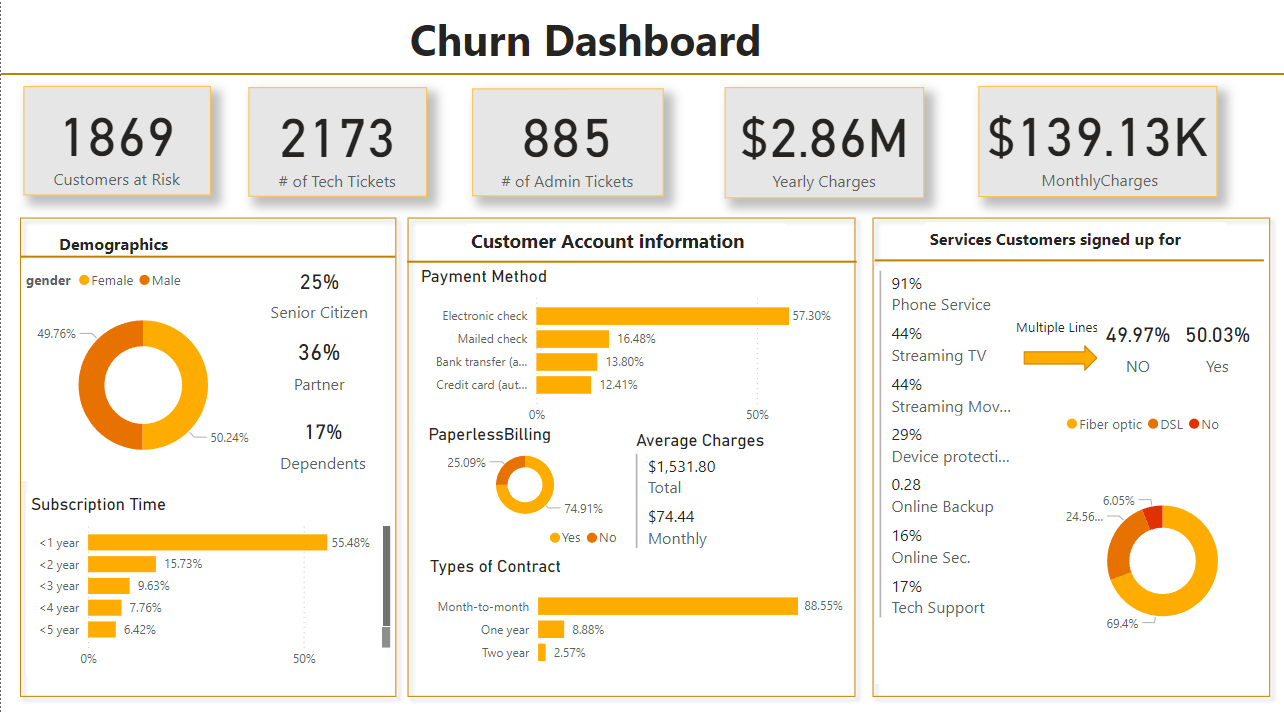

The page's visual inventory and layout, read from the dashboard file:
{"tool":"powerbi","page":{"name":"Page 2","canvas":[1280,720],"ordinal":1},"visuals":[{"type":"textbox","box":[402.1,13.7,559.9,68.6],"z":0},{"type":"shape","box":[0,57.6,1280.3,50.8],"z":1000},{"type":"card","fields":{"Values":["CountNonNull(01 Churn-Dataset.customerID)"]},"box":[22.5,95,186.2,108.8],"z":2000},{"type":"card","fields":{"Values":["Sum(01 Churn-Dataset.numTechTickets)"]},"box":[246.2,96.2,177.5,108.8],"z":3000},{"type":"card","fields":{"Values":["Sum(01 Churn-Dataset.TotalCharges)"]},"box":[720,96.2,198.8,110],"z":4000},{"type":"card","fields":{"Values":["Sum(01 Churn-Dataset.MonthlyCharges)"]},"box":[972.5,95,237.5,110],"z":5000},{"type":"card","fields":{"Values":["Sum(01 Churn-Dataset.numAdminTickets)"]},"box":[468.8,97.5,190,107.5],"z":6000},{"type":"shape","box":[10,216.2,392.5,495],"z":7000},{"type":"textbox","box":[37.5,232.5,215,48.8],"z":8000},{"type":"shape","box":[20,252.5,372.5,23.8],"z":9000},{"type":"donutChart","fields":{"Category":["01 Churn-Dataset.gender"],"Y":["CountNonNull(01 Churn-Dataset.gender)"]},"box":[20,267.5,243.8,220],"z":10000},{"type":"card","fields":{"Values":["Churn.% of Senior Citizen"]},"box":[252.5,267.5,128.8,65],"z":11000},{"type":"card","fields":{"Values":["Churn.% of Partner"]},"box":[252.5,332.5,128.8,75],"z":12000},{"type":"card","fields":{"Values":["Churn.% of Dependents"]},"box":[260,410,121.2,78.8],"z":13000},{"type":"clusteredBarChart","title":"Subscription Time","fields":{"Y":["CountNonNull(Churn.Churn)"],"Category":["Churn.Tenure(in years)"]},"box":[25,500,367.5,182.5],"z":14000},{"type":"shape","box":[395,216.2,463.8,495],"z":15000},{"type":"shape","box":[858.8,216.2,413.8,495],"z":16000},{"type":"textbox","box":[462.5,231.2,318.8,42.5],"z":17000},{"type":"shape","box":[403.8,252.5,447.5,33.8],"z":18000},{"type":"clusteredBarChart","title":"Payment Method","fields":{"Category":["Churn.PaymentMethod"],"Y":["CountNonNull(Churn.PaymentMethod)"]},"box":[412.5,273.8,430,166.2],"z":19000},{"type":"donutChart","title":"PaperlessBilling","fields":{"Y":["CountNonNull(Churn.PaperlessBilling)"],"Category":["Churn.PaperlessBilling"]},"box":[420,430,202.5,132.5],"z":20000},{"type":"multiRowCard","title":"Average Charges","fields":{"Values":["Avg(Churn.TotalCharges)","Avg(Churn.MonthlyCharges)"]},"box":[627.5,436.2,200,126.2],"z":21000},{"type":"clusteredBarChart","title":"Types of Contract","fields":{"Category":["Churn.Contract"],"Y":["CountNonNull(Churn.Contract)"]},"box":[421.2,562.5,421.2,120],"z":22000},{"type":"multiRowCard","fields":{"Values":["Churn.% Phone Service","Churn.% Streaming TV","Churn.% Streaming Movies","Churn.% Device protection","Churn.% Online Backup","Churn.% Online Sec.","Churn.% Tech Support"]},"box":[870,273.8,141.2,416.2],"z":23000},{"type":"shape","box":[1017.5,352.5,73.8,26.2],"z":24000},{"type":"textbox","box":[1005,320,146.2,27.5],"z":25000},{"type":"card","fields":{"Values":["Churn.% NO-Multiple lines"]},"box":[1091.2,321.2,81.2,63.8],"z":26000},{"type":"card","fields":{"Values":["Churn.% Yes-Multiple Lines"]},"box":[1170,320,80,67.5],"z":27000},{"type":"donutChart","title":"PaperlessBilling","fields":{"Category":["Churn.InternetService"],"Y":["CountNonNull(Churn.InternetService)"]},"box":[1055,410,202.5,283.8],"z":28000},{"type":"textbox","box":[918.8,230,300,51.2],"z":29000},{"type":"shape","box":[870,262.5,387.5,11.2],"z":30000}]}

Visuals, with their boxes in screenshot pixels (x1, y1, x2, y2), scaled from the page's 1280x720 canvas onto the 1284x712 screenshot:
textbox: 403:14:965:81
shape: 0:57:1283:107
card - CountNonNull(01 Churn-Dataset.customerID): 23:94:209:202
card - Sum(01 Churn-Dataset.numTechTickets): 247:95:425:203
card - Sum(01 Churn-Dataset.TotalCharges): 722:95:922:204
card - Sum(01 Churn-Dataset.MonthlyCharges): 976:94:1214:203
card - Sum(01 Churn-Dataset.numAdminTickets): 470:96:661:203
shape: 10:214:404:703
textbox: 38:230:253:278
shape: 20:250:394:273
donutChart - 01 Churn-Dataset.gender x CountNonNull(01 Churn-Dataset.gender): 20:265:265:482
card - Churn.% of Senior Citizen: 253:265:382:329
card - Churn.% of Partner: 253:329:382:403
card - Churn.% of Dependents: 261:405:382:483
"Subscription Time" clusteredBarChart: 25:494:394:675
shape: 396:214:861:703
shape: 861:214:1277:703
textbox: 464:229:784:271
shape: 405:250:854:283
"Payment Method" clusteredBarChart: 414:271:845:435
"PaperlessBilling" donutChart: 421:425:624:556
"Average Charges" multiRowCard: 629:431:830:556
"Types of Contract" clusteredBarChart: 423:556:845:675
multiRowCard - Churn.% Phone Service x Churn.% Streaming TV: 873:271:1014:682
shape: 1021:349:1095:374
textbox: 1008:316:1155:344
card - Churn.% NO-Multiple lines: 1095:318:1176:381
card - Churn.% Yes-Multiple Lines: 1174:316:1254:383
"PaperlessBilling" donutChart: 1058:405:1261:686
textbox: 922:227:1223:278
shape: 873:260:1261:271
